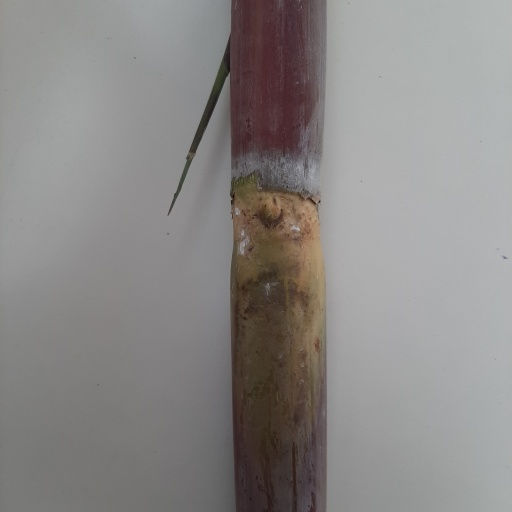Bud: (259, 195, 286, 230)
